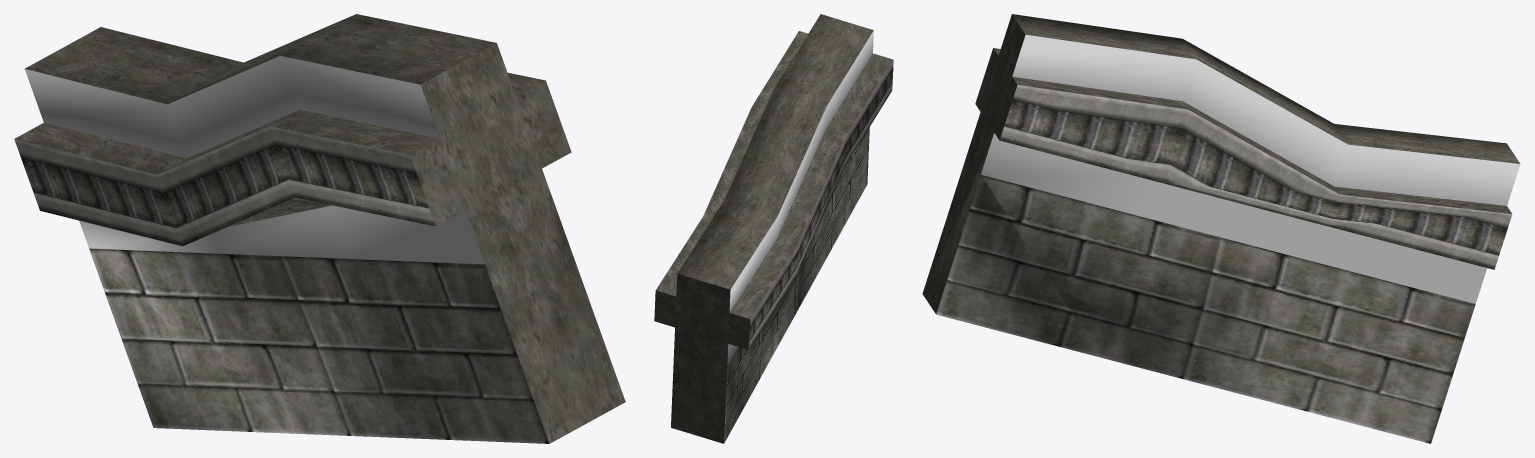
The model's file is DWARF_PALACE_MAINHALL_BALK_DEBREE02.obj.
3 renders of one model, left to right at view 1: azimuth 30°, elevation 25°; view 2: azimuth 150°, elevation 25°; view 3: azimuth 270°, elevation 25°, orthographic. The views are drawn at different scales.
Parts seen in each view (by area): view 1: l_balk_debree02; view 2: l_balk_debree02; view 3: l_balk_debree02.
Boxes of the visible parts, x1,y1,x2,y2 form: l_balk_debree02: (14, 14, 625, 443); l_balk_debree02: (654, 14, 893, 443); l_balk_debree02: (922, 14, 1520, 443).
Size of the model in its own units: 146 by 309 by 398.
